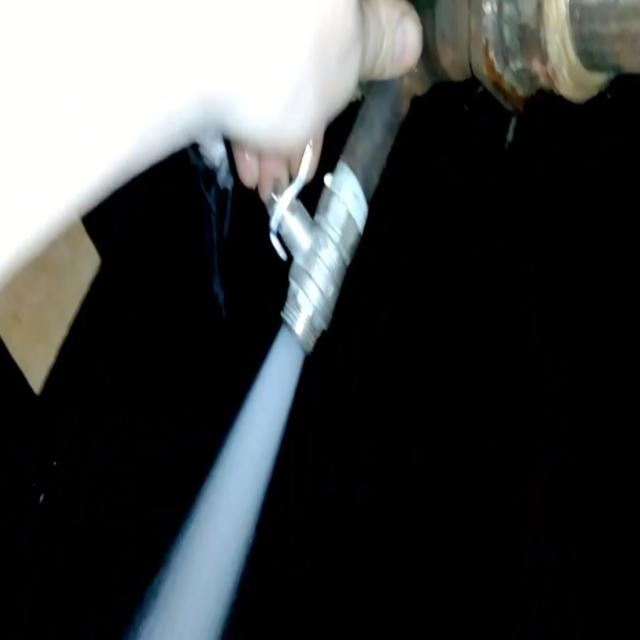leak: (130, 324, 305, 638)
